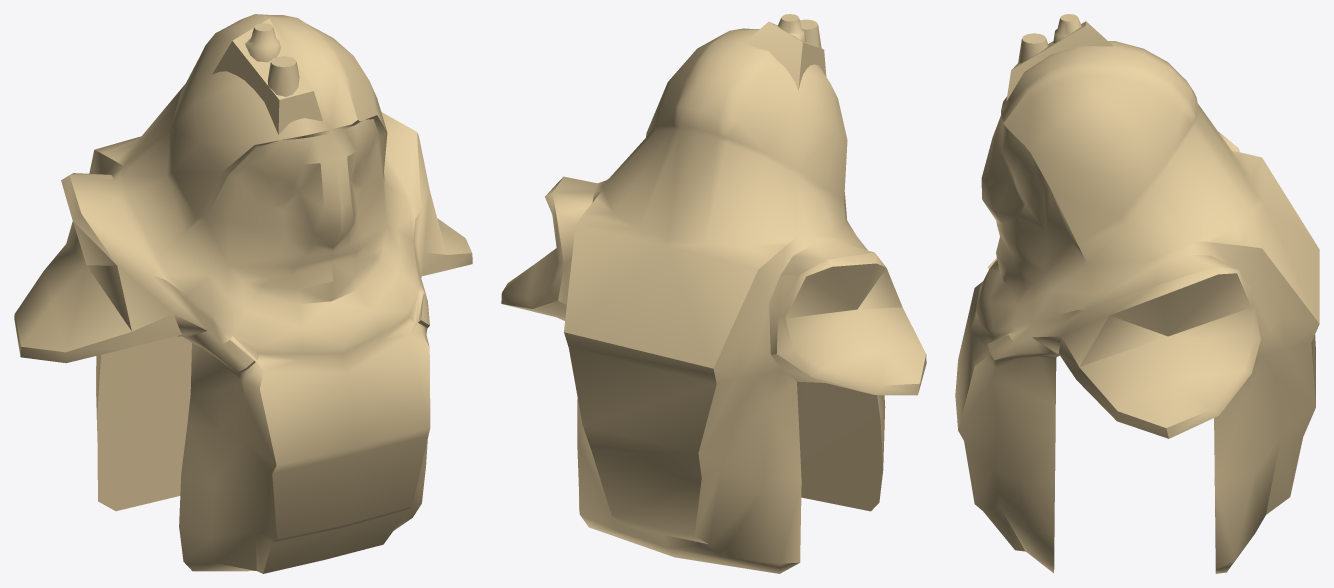
File: Unkar Plutt.dae
3 views of the same model, side by side, from view 1: azimuth 30°, elevation 25°; view 2: azimuth 150°, elevation 25°; view 3: azimuth 270°, elevation 25° (orthographic). The views are drawn at different scales.
Bounding box in the file's own units: 63.19 × 47.43 × 71.15.
